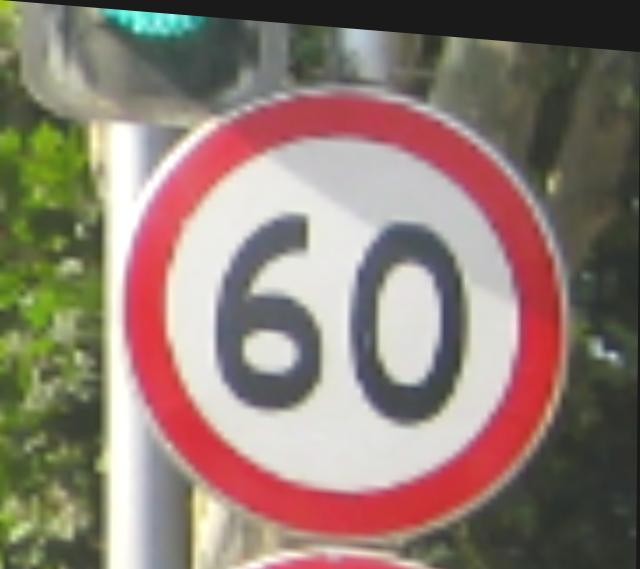limit60: (101, 53, 581, 561)
